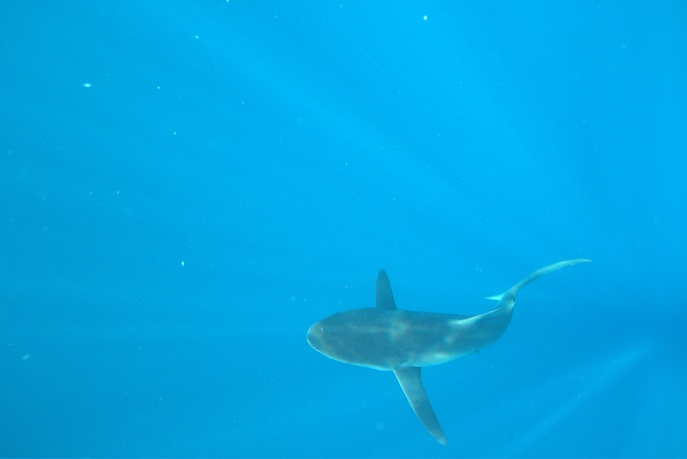Sedoso: (269, 251, 615, 449)
